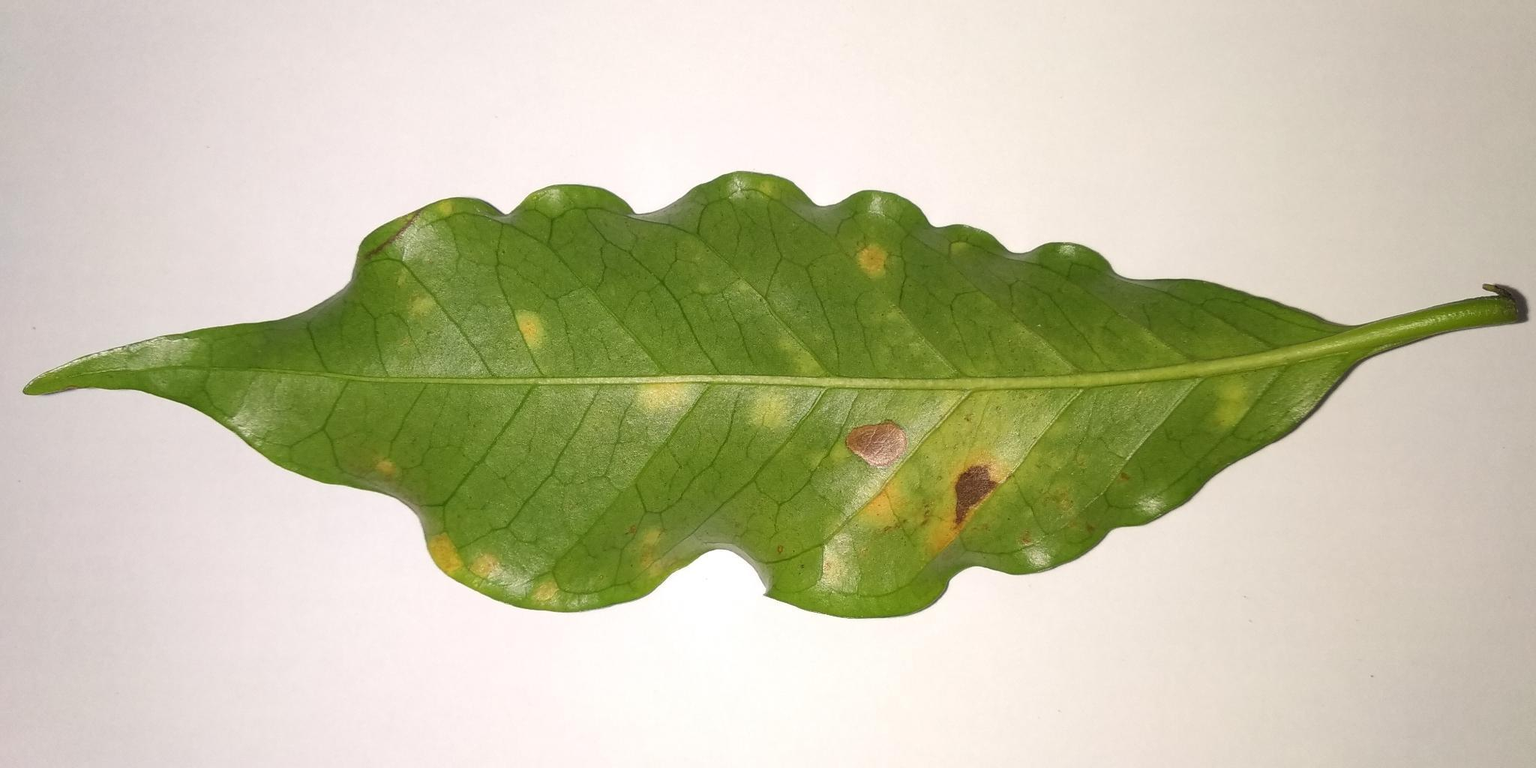Miner: (831, 405, 921, 480)
